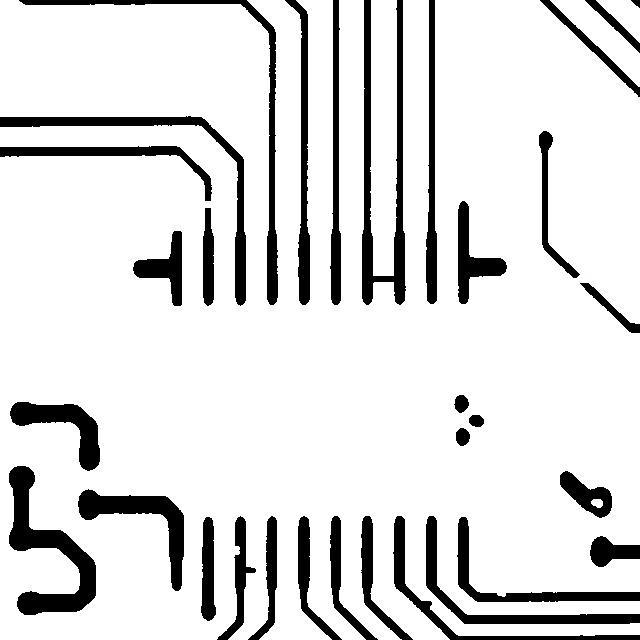copper: (459, 405, 493, 436)
mousebite: (222, 536, 249, 564), (487, 581, 515, 606)
open: (561, 265, 600, 294), (190, 191, 223, 217)
pin-hole: (581, 489, 612, 517)
short: (359, 266, 408, 293)
spur: (409, 591, 441, 619), (233, 557, 265, 582)
